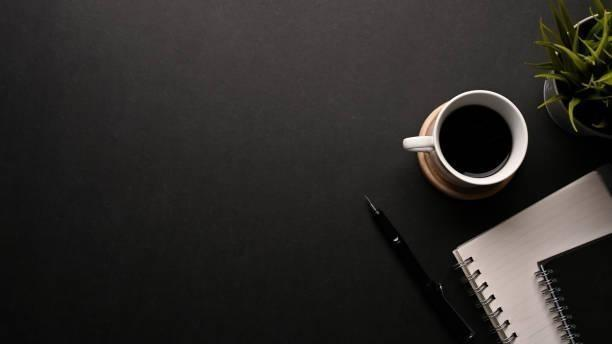cup-handle: (402, 89, 529, 191)
